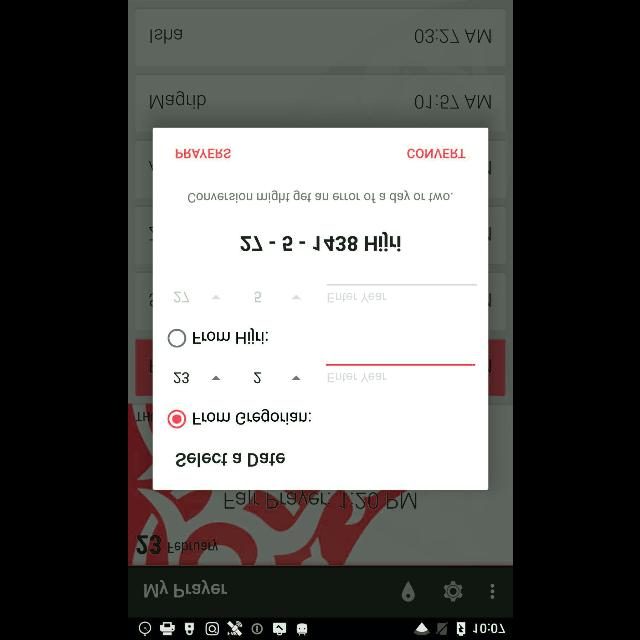checkbox: (167, 410, 185, 428), (167, 329, 185, 347)
icon: (442, 580, 462, 602), (402, 580, 414, 602), (490, 583, 494, 599), (210, 376, 220, 380), (292, 376, 300, 380), (211, 295, 219, 299), (292, 295, 300, 299)
input: (326, 363, 474, 382), (326, 284, 476, 302)
panel: (152, 128, 488, 490)
text: (224, 491, 416, 509), (240, 232, 400, 252), (188, 191, 452, 203), (192, 409, 310, 425), (176, 453, 284, 467), (144, 579, 226, 597), (193, 328, 267, 344), (414, 95, 490, 109), (414, 29, 490, 43), (149, 91, 205, 109), (167, 538, 217, 554), (407, 149, 465, 159), (326, 373, 386, 382), (176, 148, 230, 158), (136, 534, 160, 554), (328, 294, 386, 302), (150, 29, 182, 43), (173, 372, 189, 383), (173, 292, 189, 302), (253, 291, 260, 303), (253, 373, 260, 383)
uppertaskbar: (128, 617, 512, 639)
